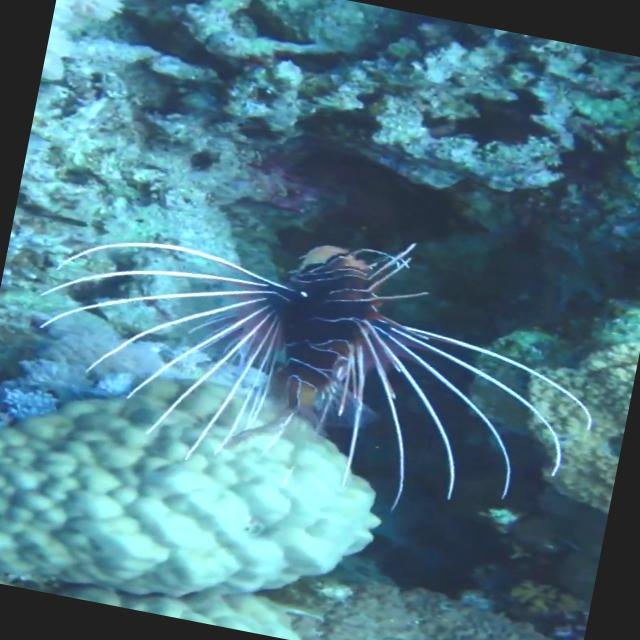Aslan Baligi: (9, 172, 622, 548)
